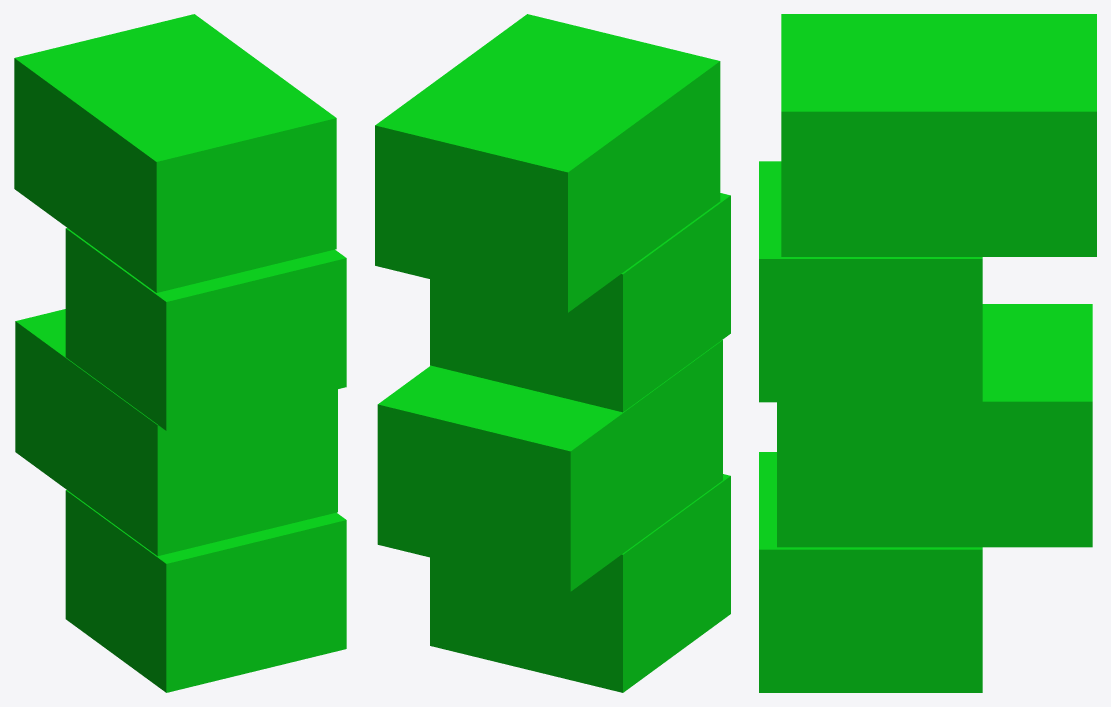
Rendered from Brick_Grp_05.fbx.
3 views of the same model, side by side, from view 1: azimuth 30°, elevation 25°; view 2: azimuth 150°, elevation 25°; view 3: azimuth 270°, elevation 25° (orthographic). The views are drawn at different scales.
Visible parts, largest first — view 1: Brick_Grp_05; view 2: Brick_Grp_05; view 3: Brick_Grp_05.
Boxes of the visible parts, x1,y1,x2,y2 form: Brick_Grp_05: (14, 14, 346, 692); Brick_Grp_05: (375, 14, 730, 692); Brick_Grp_05: (759, 14, 1096, 692).
Bounding box in the file's own units: 170 × 470 × 247.
